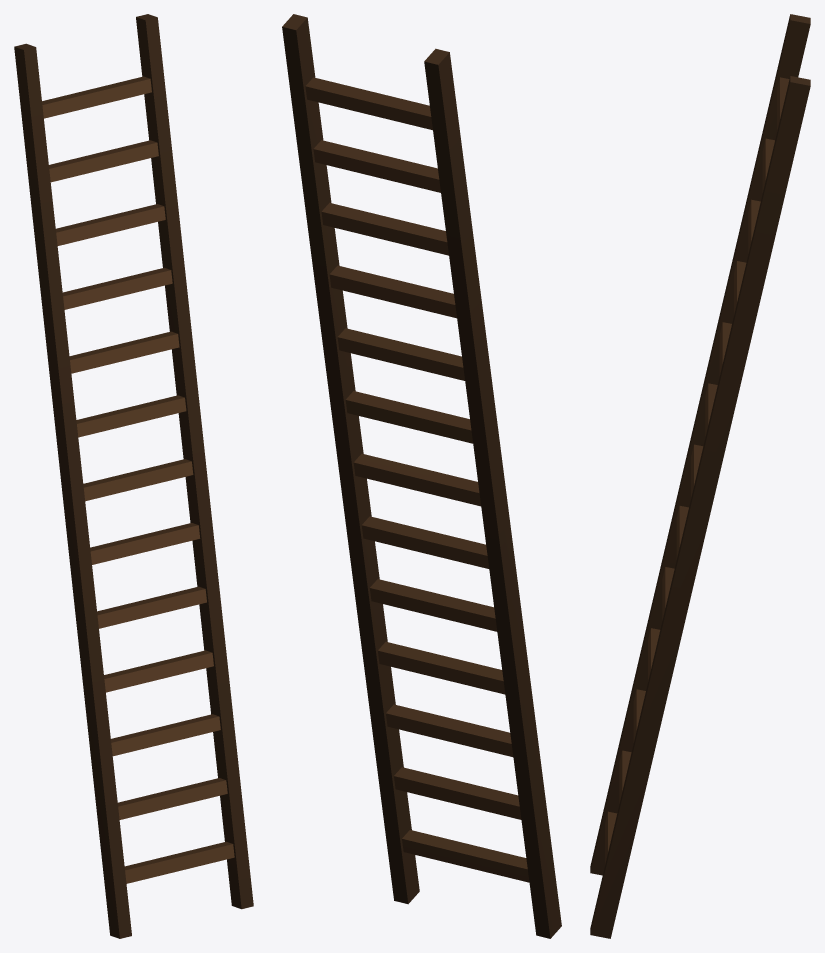
Rendered from kit_ladder.glb.
3 views of the same model, side by side, from view 1: azimuth 30°, elevation 25°; view 2: azimuth 150°, elevation 25°; view 3: azimuth 270°, elevation 25° (orthographic). The views are drawn at different scales.
Parts seen in each view (by area): view 1: ladder; view 2: ladder; view 3: ladder.
Part boxes in pixels (x1,y1,x2,y2): ladder: (14,14,253,938); ladder: (282,14,561,938); ladder: (590,14,810,938).
Size of the model in its own units: 2.31 by 13.56 by 3.16.
